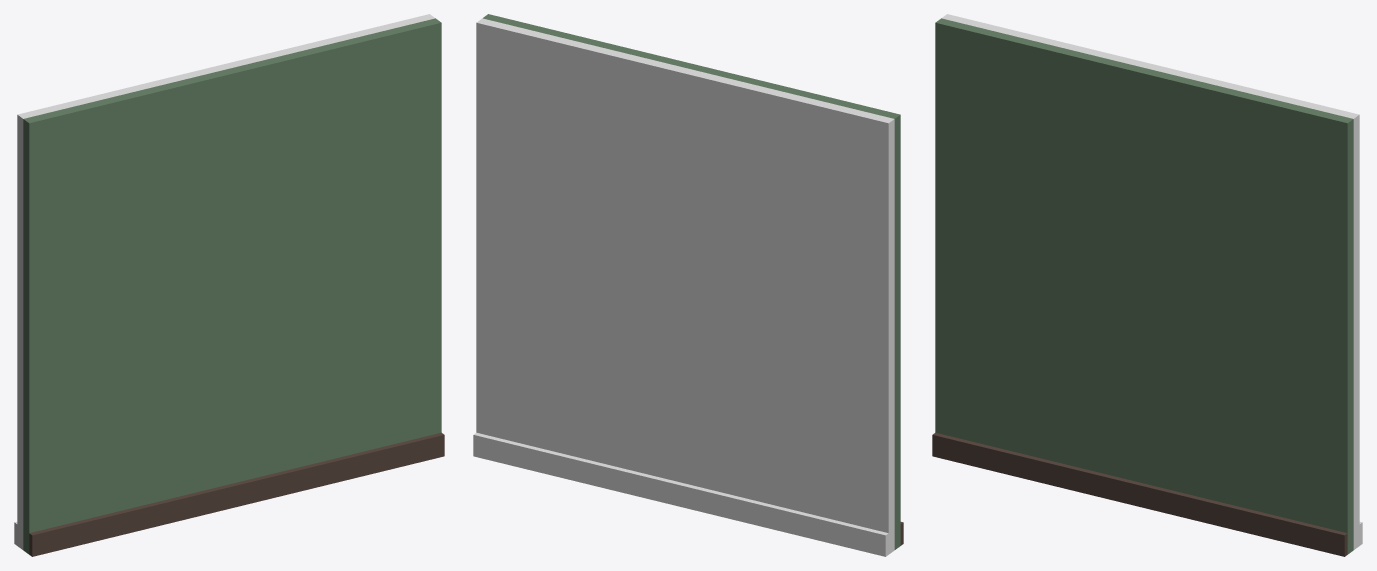
The model's file is h_wall_1_multi_4.fbx.
3 views of the same model, side by side, from view 1: azimuth 30°, elevation 25°; view 2: azimuth 150°, elevation 25°; view 3: azimuth 330°, elevation 25° (orthographic).
Parts seen in each view (by area): view 1: Cube; view 2: Cube; view 3: Cube.
Boxes of the visible parts, x1=… form: Cube: x1=14, y1=14, x2=444, y2=556; Cube: x1=473, y1=14, x2=903, y2=556; Cube: x1=932, y1=14, x2=1362, y2=556.
Size of the model in its own units: 400 by 400 by 30.
